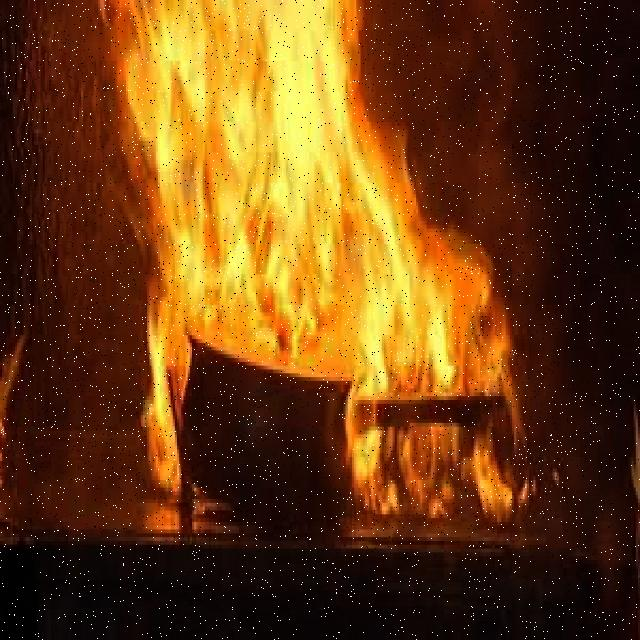fire: (128, 10, 520, 539)
